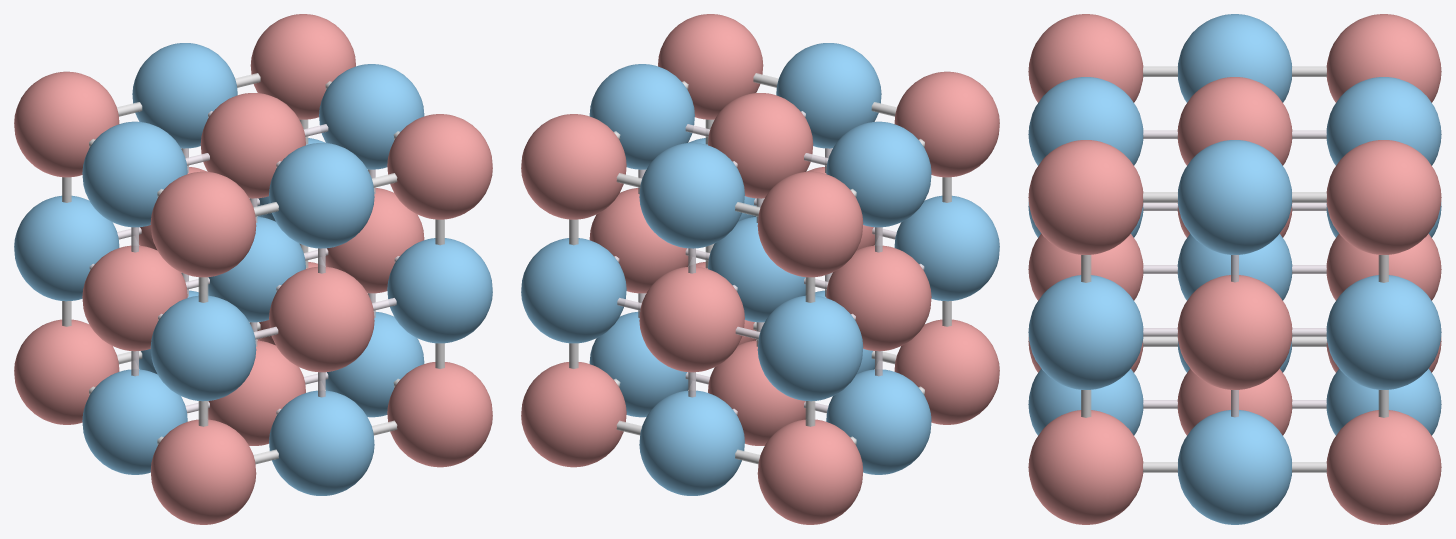
File: crystal-lattice.glb
3 views of the same model, side by side, from view 1: azimuth 30°, elevation 25°; view 2: azimuth 150°, elevation 25°; view 3: azimuth 270°, elevation 25° (orthographic). The views are drawn at different scales.
Parts seen in each view (by area): view 1: anion_9, anion_3, anion_27, cation_6, cation_18, cation_24, anion_15, anion_21, cation_12, anion_7, cation_8, cation_2 (+12 smaller); view 2: anion_7, anion_1, anion_25, cation_4, cation_16, cation_22, anion_13, anion_19, cation_10, anion_9, cation_8, cation_2 (+12 smaller); view 3: anion_25, anion_27, cation_26, anion_23, cation_22, cation_24, cation_20, anion_19, anion_21, cation_16, anion_17, cation_18 (+15 smaller).
Part boxes in pixels (box(x1,y1,x2,y2)): anion_9: box(150, 171, 256, 277); anion_3: box(150, 419, 256, 524); anion_27: box(387, 114, 492, 219); cation_6: box(150, 295, 256, 401); cation_18: box(269, 143, 374, 248); cation_24: box(387, 238, 492, 343); anion_15: box(269, 267, 374, 372); anion_21: box(387, 362, 492, 467); cation_12: box(269, 390, 374, 495); anion_7: box(14, 71, 119, 177); cation_8: box(82, 121, 187, 227); cation_2: box(82, 369, 187, 474); anion_7: box(757, 171, 863, 277); anion_1: box(757, 419, 863, 524); anion_25: box(521, 114, 626, 219); cation_4: box(757, 295, 863, 401); cation_16: box(639, 143, 744, 248); cation_22: box(521, 238, 626, 343); anion_13: box(639, 267, 744, 372); anion_19: box(521, 362, 626, 467); cation_10: box(639, 390, 744, 495); anion_9: box(894, 71, 999, 177); cation_8: box(826, 121, 931, 227); cation_2: box(826, 369, 931, 474); anion_25: box(1326, 140, 1441, 254); anion_27: box(1028, 140, 1143, 254); cation_26: box(1178, 140, 1291, 254); anion_23: box(1177, 275, 1292, 389); cation_22: box(1326, 275, 1441, 389); cation_24: box(1028, 275, 1143, 389); cation_20: box(1177, 410, 1292, 524); anion_19: box(1326, 410, 1441, 524); anion_21: box(1028, 410, 1143, 524); cation_16: box(1326, 77, 1441, 165); anion_17: box(1177, 77, 1292, 165); cation_18: box(1028, 77, 1143, 165).
Size of the model in its own units: 1.15 by 1.15 by 1.15.
